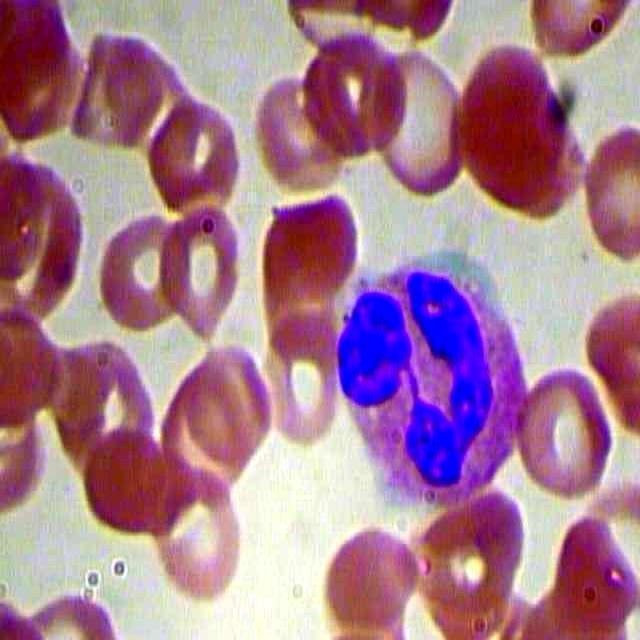RBC: (513, 355, 612, 504), (299, 29, 413, 158), (137, 92, 242, 219), (238, 72, 343, 199), (257, 298, 340, 451), (324, 510, 421, 640), (146, 467, 243, 596), (158, 208, 244, 339), (98, 208, 184, 339), (578, 115, 640, 261)
WBC: (318, 250, 540, 506)
